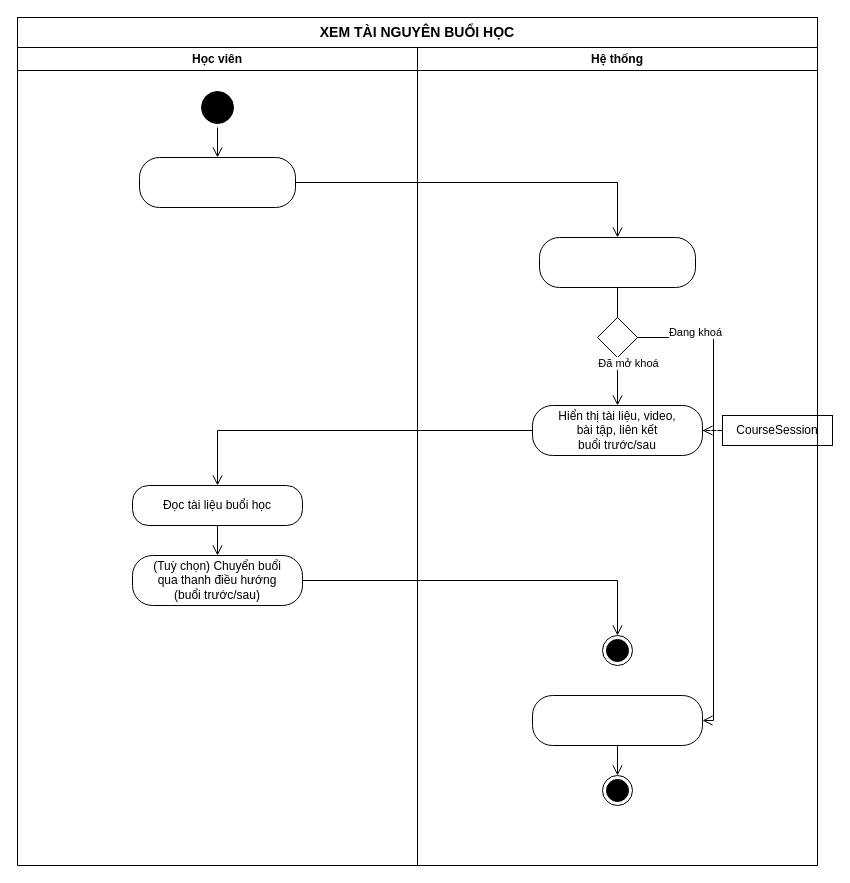
This 850x883 diagram has some shape labels left out. The shapes that lost their labels are listed below. From the top down, each one's centre as x and y in pixels, then its label:
At [217,182]: "Chọn một buổi học trong khoá".
At [617,262]: "Kiểm tra buổi học có bị khoá không".
At [617,720]: "Hiển thị buổi học ở trạng thái khoá (chưa đủ điều kiện)".
